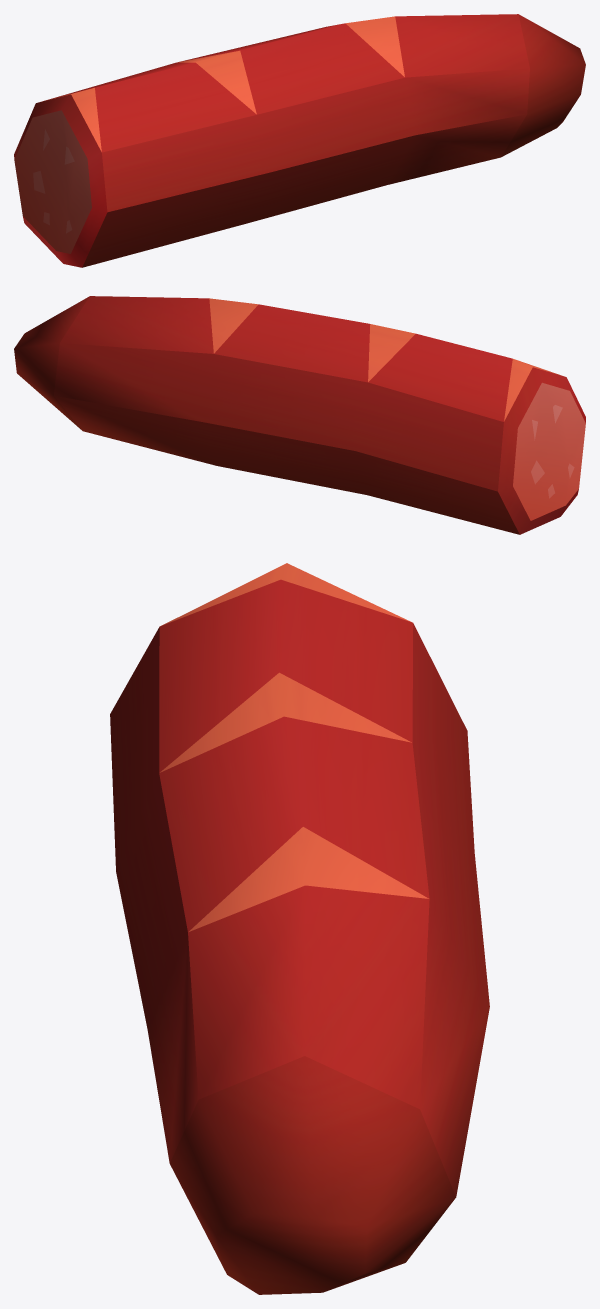
The model's file is Sausage_2_A.glb.
3 views of the same model, one above another, from view 1: azimuth 30°, elevation 25°; view 2: azimuth 150°, elevation 25°; view 3: azimuth 270°, elevation 25° (orthographic). The views are drawn at different scales.
Parts seen in each view (by area): view 1: Sausage_2_A; view 2: Sausage_2_A; view 3: Sausage_2_A.
Part boxes in pixels (bbox=[...]): Sausage_2_A: bbox=[14, 14, 585, 267]; Sausage_2_A: bbox=[14, 296, 585, 534]; Sausage_2_A: bbox=[110, 563, 489, 1294].
Size of the model in its own units: 0.2982 by 0.0855 by 0.0935.
1 material, 1 textured.
